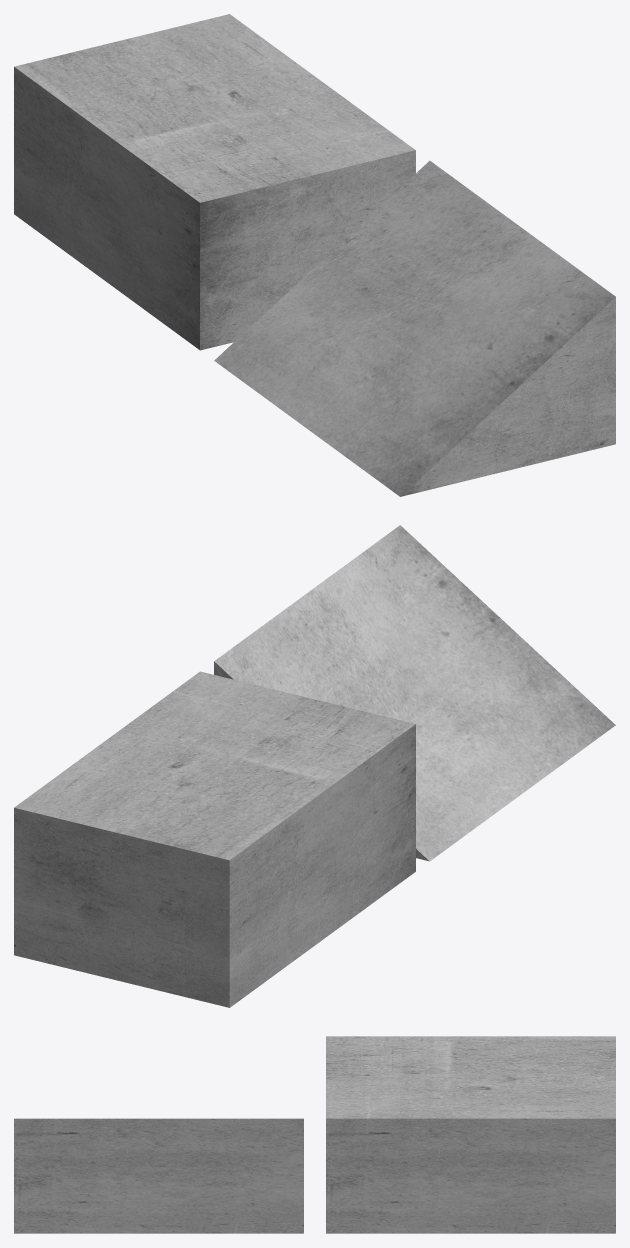
Rendered from concreate_wall.glb.
3 renders of one model, top to bottom at view 1: azimuth 30°, elevation 25°; view 2: azimuth 150°, elevation 25°; view 3: azimuth 270°, elevation 25°, orthographic. The views are drawn at different scales.
Parts seen in each view (by area): view 1: Screenshot 2026-07-01 194659, Screenshot 2026-07-01 194659.002; view 2: Screenshot 2026-07-01 194659, Screenshot 2026-07-01 194659.002; view 3: Screenshot 2026-07-01 194659, Screenshot 2026-07-01 194659.002.
Boxes of the visible parts, box(x1,y1,x2,y2) form: Screenshot 2026-07-01 194659: box(14, 14, 415, 350); Screenshot 2026-07-01 194659.002: box(214, 160, 615, 496); Screenshot 2026-07-01 194659: box(14, 671, 415, 1007); Screenshot 2026-07-01 194659.002: box(214, 525, 615, 861); Screenshot 2026-07-01 194659: box(326, 1036, 615, 1233); Screenshot 2026-07-01 194659.002: box(14, 1118, 303, 1233).
Bounding box in the file's own units: 2 × 1.31 × 6.2.
Materials: 2 (2 with a texture image).
